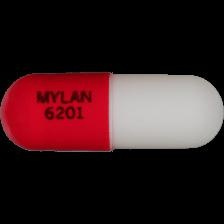0378-6201: (0, 0, 224, 224)
